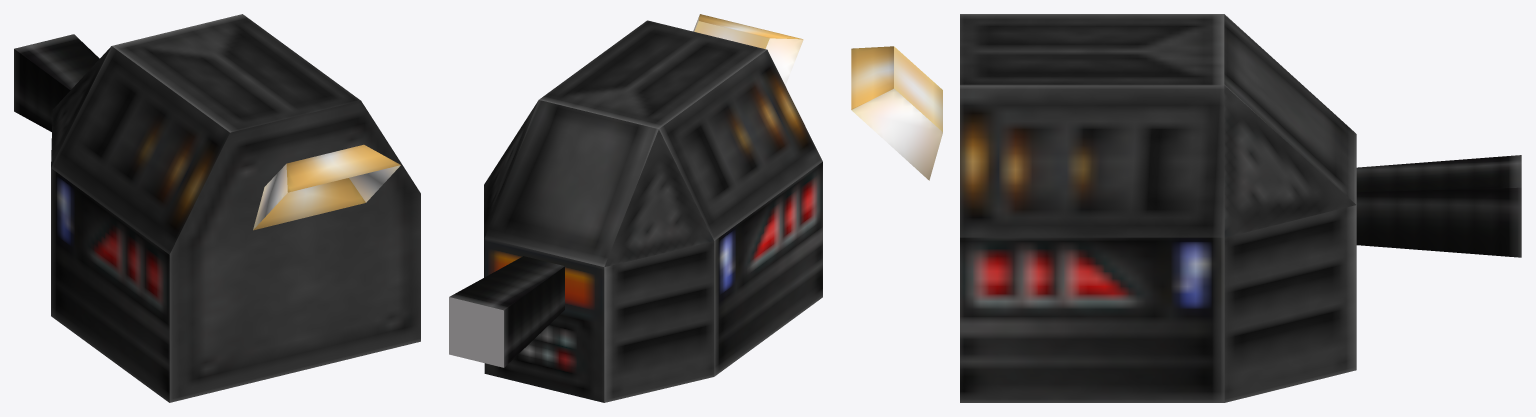
The model's file is wep13.obj.
3 views of the same model, side by side, from view 1: azimuth 30°, elevation 25°; view 2: azimuth 150°, elevation 25°; view 3: azimuth 270°, elevation 25° (orthographic). The views are drawn at different scales.
Parts seen in each view (by area): view 1: frm-wepbas1, frm-wepbas2, frm-wepbar1; view 2: frm-wepbas1, frm-wepbar1, frm-wepbas2; view 3: frm-wepbas1, frm-wepbar1, frm-wepbas2.
Boxes of the visible parts, x1,y1,x2,y2 form: frm-wepbas1: (51,14,420,402); frm-wepbas2: (253,144,400,230); frm-wepbar1: (14,34,99,131); frm-wepbas1: (484,20,822,402); frm-wepbar1: (449,256,564,367); frm-wepbas2: (693,14,803,85); frm-wepbas1: (960,14,1356,402); frm-wepbar1: (1356,155,1521,257); frm-wepbas2: (851,46,942,180).
Size of the model in its own units: 0.3198 by 0.3106 by 0.6619.
